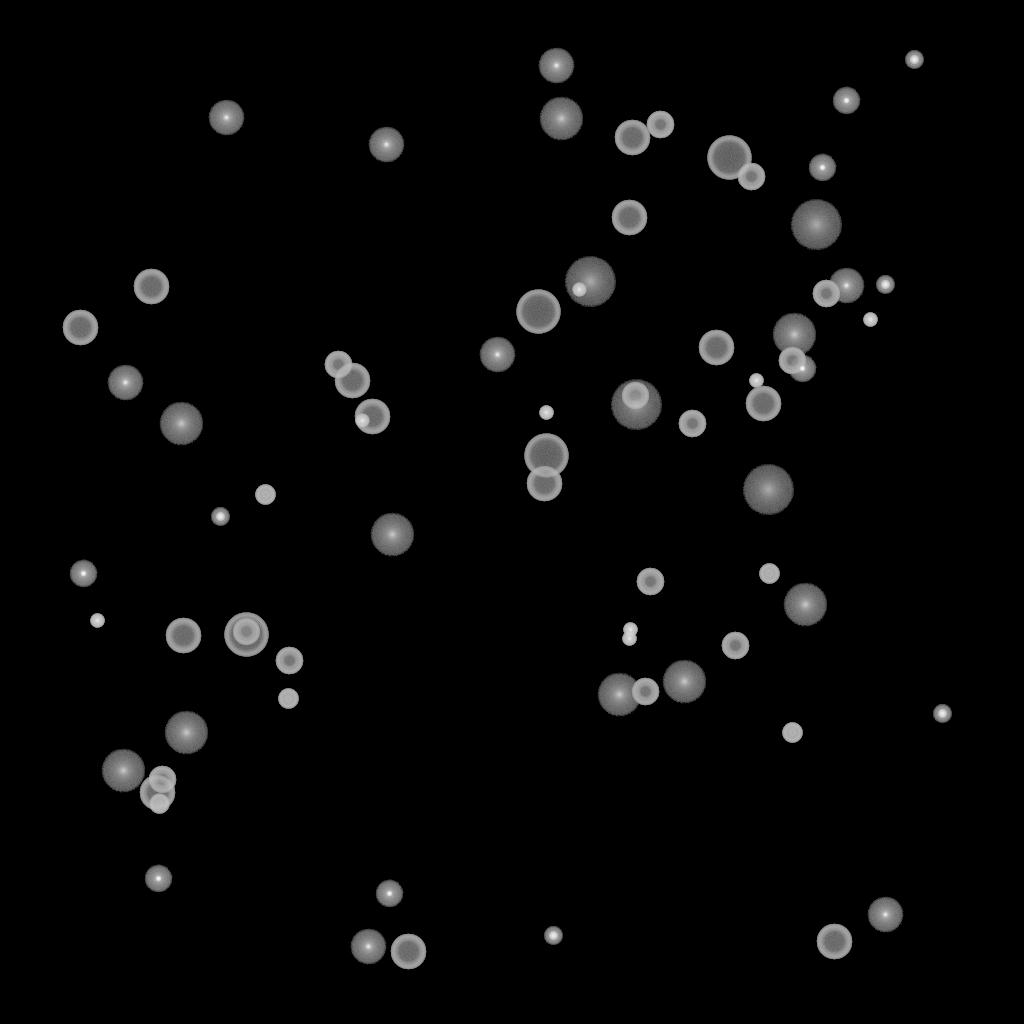depth:-10: (788, 355, 816, 383), (375, 880, 403, 908), (808, 154, 836, 182), (832, 87, 860, 115), (144, 865, 172, 893), (69, 560, 97, 588)
depth:-20: (211, 508, 229, 526), (933, 705, 951, 723), (905, 51, 923, 69), (544, 927, 562, 945), (876, 276, 894, 294)
depth:-30: (622, 632, 636, 646), (539, 406, 553, 420), (623, 623, 637, 637), (90, 614, 104, 628), (863, 313, 877, 327), (749, 374, 763, 388), (355, 414, 369, 428), (572, 283, 586, 297)
depth:-40: (782, 723, 802, 743), (759, 564, 779, 584), (255, 485, 275, 505), (278, 689, 298, 709), (149, 794, 169, 814)
depth:-50: (636, 568, 664, 596), (721, 632, 749, 660), (275, 647, 303, 675), (646, 111, 674, 139), (631, 678, 659, 706), (232, 618, 260, 646), (678, 410, 706, 438), (737, 163, 765, 191), (324, 351, 352, 379), (778, 347, 806, 375), (812, 280, 840, 308), (148, 766, 176, 794), (621, 382, 649, 410)
depth:-60: (816, 924, 852, 960), (139, 775, 175, 811), (165, 618, 201, 654), (526, 466, 562, 502), (611, 200, 647, 236), (354, 399, 390, 435), (334, 363, 370, 399), (390, 934, 426, 970), (62, 310, 98, 346), (698, 330, 734, 366), (745, 386, 781, 422), (614, 120, 650, 156), (133, 269, 169, 305)
depth:-70: (707, 136, 751, 180), (524, 434, 568, 478), (224, 613, 268, 657), (516, 290, 560, 334)
depth:0: (479, 337, 515, 373), (538, 48, 574, 84), (867, 897, 903, 933), (828, 268, 864, 304), (368, 127, 404, 163), (208, 100, 244, 136), (107, 365, 143, 401), (350, 929, 386, 965)
depth:10: (159, 402, 203, 446), (101, 749, 145, 793), (772, 313, 816, 357), (539, 97, 583, 141), (662, 660, 706, 704), (370, 513, 414, 557), (164, 711, 208, 755), (597, 673, 641, 717), (783, 583, 827, 627)
depth:20: (564, 257, 616, 307), (790, 200, 842, 250), (742, 465, 794, 515), (610, 380, 662, 430)
